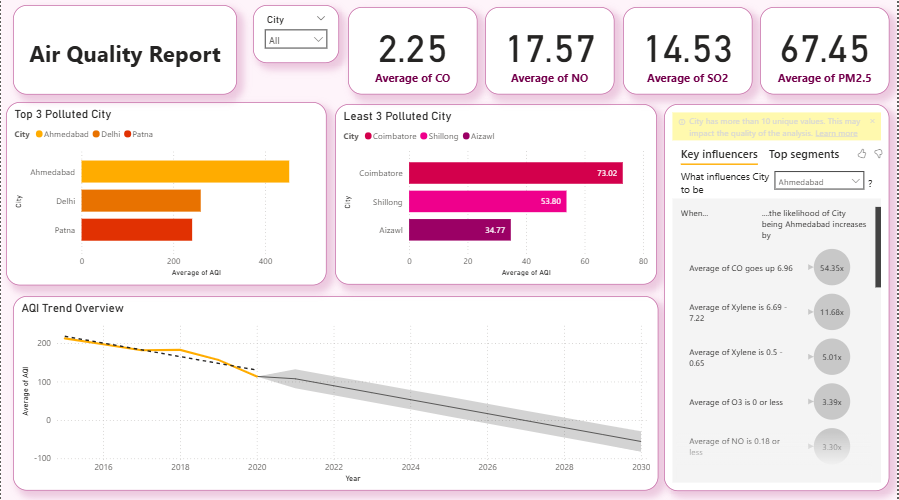

What the dashboard file says about the page in this screenshot:
{"tool":"powerbi","page":{"name":"Page 1","canvas":[1280,720],"ordinal":0},"visuals":[{"type":"lineChart","title":"AQI Trend Overview","fields":{"Category":["city_day.Date.Variation.Date Hierarchy.Year","city_day.Date.Variation.Date Hierarchy.Quarter","city_day.Date.Variation.Date Hierarchy.Month","city_day.Date.Variation.Date Hierarchy.Day"],"Y":["Avg(city_day.AQI)"]},"box":[16.7,423.3,921.7,278.3],"z":0},{"type":"slicer","fields":{"Values":["city_day.City"]},"box":[360,6.7,123.3,83.3],"z":1000},{"type":"barChart","title":"Top 3 Polluted City","fields":{"Category":["city_day.City"],"Y":["Avg(city_day.AQI)"],"Series":["city_day.City"]},"box":[6.7,145,458.3,261.7],"z":2000},{"type":"barChart","title":"Least 3 Polluted City","fields":{"Category":["city_day.City"],"Y":["Avg(city_day.AQI)"],"Series":["city_day.City"]},"box":[476.7,148.3,460,258.3],"z":3000},{"type":"card","fields":{"Values":["Avg(city_day.CO)"]},"box":[495.7,10,185,125],"z":4000},{"type":"card","fields":{"Values":["Avg(city_day.NO)"]},"box":[691.8,10,185,125],"z":5000},{"type":"card","fields":{"Values":["Avg(city_day.SO2)"]},"box":[887.9,10,185,125],"z":6000},{"type":"card","fields":{"Values":["Avg(city_day.PM2.5)"]},"box":[1084,10,185,125],"z":7000},{"type":"keyDriversVisual","title":"Area wise AQI Overview","fields":{"Target":["city_day.City"],"ExplainBy":["Sum(city_day.AQI)","Avg(city_day.Xylene)","Avg(city_day.Toluene)","Avg(city_day.SO2)","Avg(city_day.CO)","Avg(city_day.PM2.5)","Avg(city_day.O3)","Avg(city_day.NOx)","Avg(city_day.NO2)","Avg(city_day.NO)"]},"box":[946.7,148.3,321.7,553.3],"z":8000},{"type":"textbox","box":[16.7,6.7,320,128.3],"z":10000}]}

Visuals, with their boxes in screenshot pixels (x1, y1, x2, y2), scaled from the page's 1280x720 canvas onto the 899x500 screenshot:
"AQI Trend Overview" lineChart: box=[12, 294, 659, 487]
slicer - city_day.City: box=[253, 5, 339, 62]
"Top 3 Polluted City" barChart: box=[5, 101, 327, 282]
"Least 3 Polluted City" barChart: box=[335, 103, 658, 282]
card - Avg(city_day.CO): box=[348, 7, 478, 94]
card - Avg(city_day.NO): box=[486, 7, 616, 94]
card - Avg(city_day.SO2): box=[624, 7, 754, 94]
card - Avg(city_day.PM2.5): box=[761, 7, 891, 94]
"Area wise AQI Overview" keyDriversVisual: box=[665, 103, 891, 487]
textbox: box=[12, 5, 236, 94]
